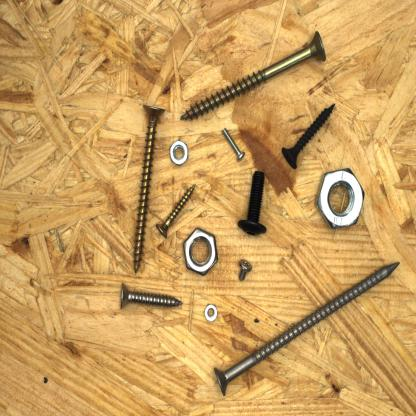screw: (211, 260, 403, 400), (177, 27, 330, 124), (130, 98, 168, 278), (279, 100, 337, 172), (233, 166, 271, 238), (154, 181, 198, 240), (116, 280, 184, 310), (220, 124, 247, 163), (236, 258, 254, 284)
